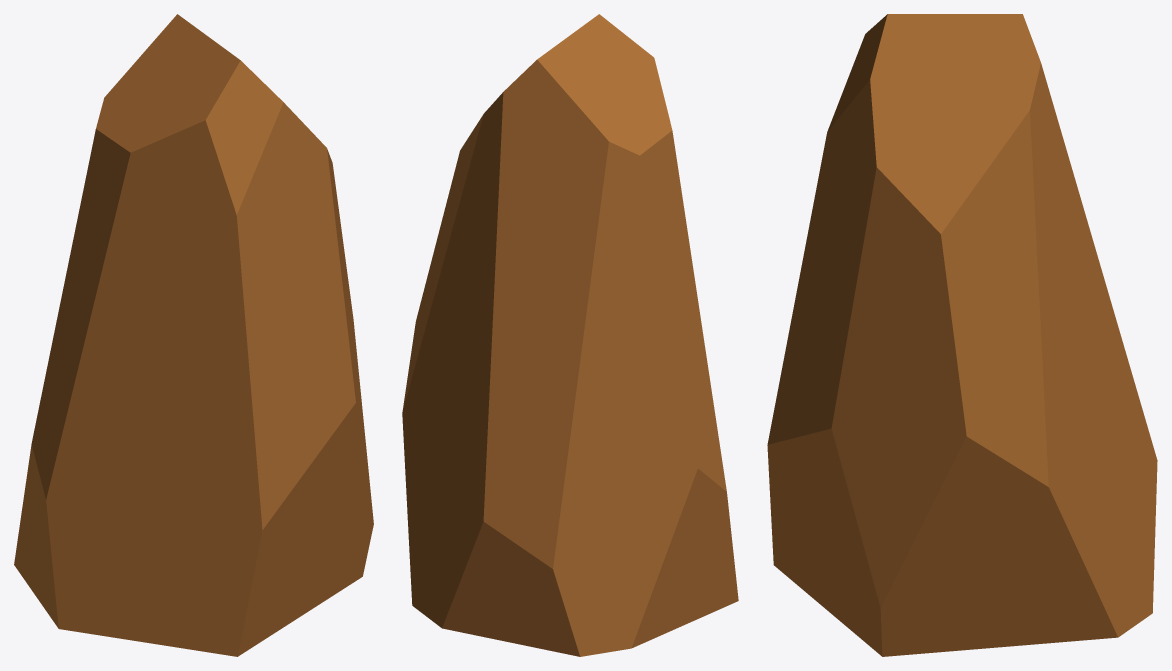
The model's file is HardRock_49.fbx.
3 views of the same model, side by side, from view 1: azimuth 30°, elevation 25°; view 2: azimuth 150°, elevation 25°; view 3: azimuth 270°, elevation 25° (orthographic). The views are drawn at different scales.
Parts seen in each view (by area): view 1: HardRock_49; view 2: HardRock_49; view 3: HardRock_49.
Boxes of the visible parts, left/top/right/bottom form: HardRock_49: left=14, top=14, right=373, bottom=656; HardRock_49: left=402, top=14, right=738, bottom=656; HardRock_49: left=767, top=14, right=1157, bottom=656.
Bounding box in the file's own units: 74.76 × 124 × 75.76.
